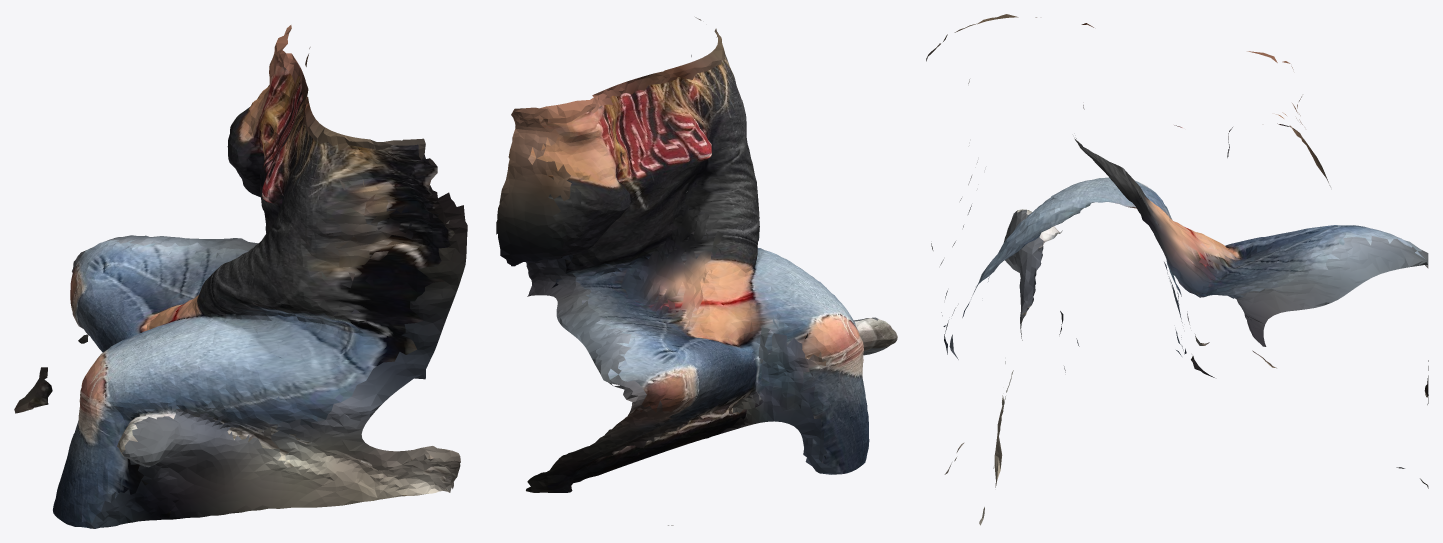
3 views of the same model, side by side, from view 1: azimuth 30°, elevation 25°; view 2: azimuth 150°, elevation 25°; view 3: azimuth 270°, elevation 25° (orthographic). The views are drawn at different scales.
Bounding box in the file's own units: 0.5533 × 0.6216 × 0.6273.
Materials: 1 (1 with a texture image).
